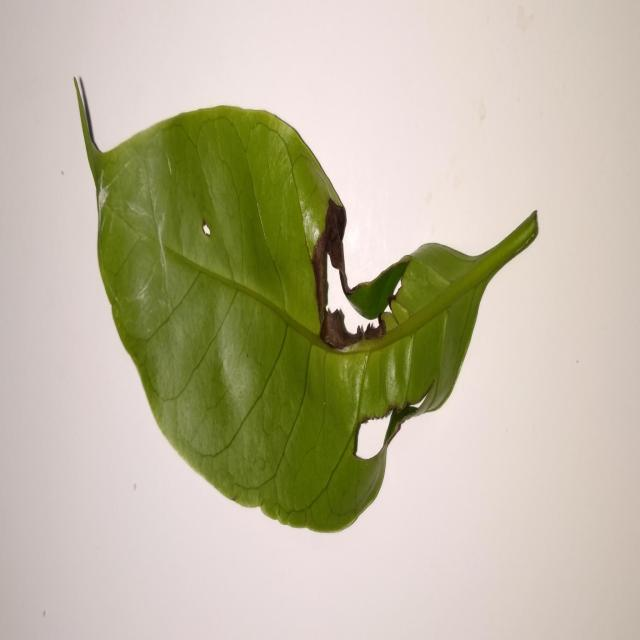Enfermedad-Antracnosis: (74, 79, 540, 536)
